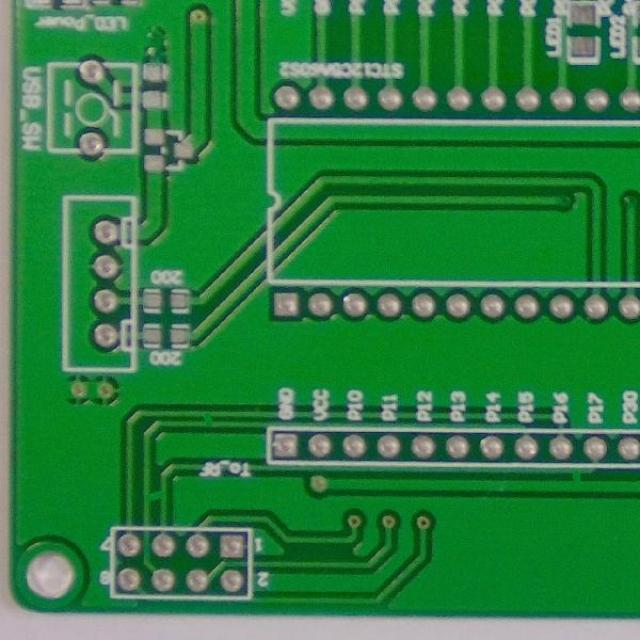Short_Circuit: (136, 482, 174, 511), (562, 460, 592, 495), (196, 406, 222, 431)
